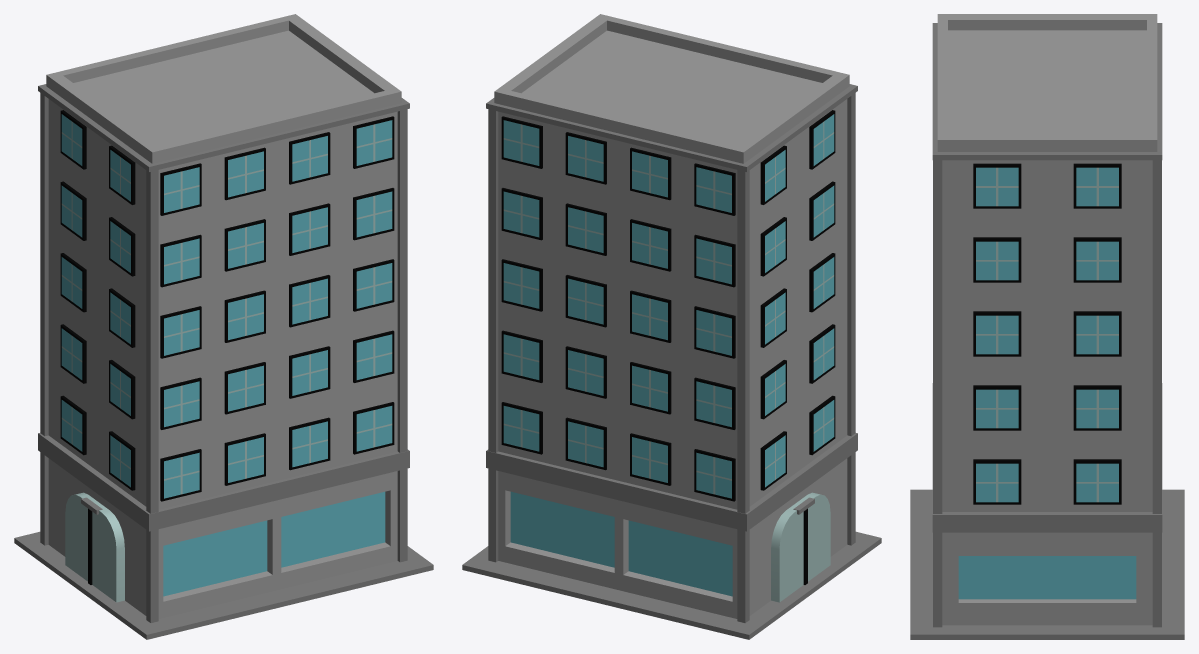
File: House4.fbx
The picture shows the model from 3 angles, left to right: view 1: azimuth 30°, elevation 25°; view 2: azimuth 150°, elevation 25°; view 3: azimuth 270°, elevation 25°; orthographic projection. The views are drawn at different scales.
Visible parts, largest first — view 1: House.004; view 2: House.004; view 3: House.004.
Boxes of the visible parts, box(x1,y1,x2,y2) form: House.004: box(14, 14, 433, 639); House.004: box(462, 14, 881, 639); House.004: box(910, 14, 1184, 639).
Bounding box in the file's own units: 1430 × 2254 × 1144.
